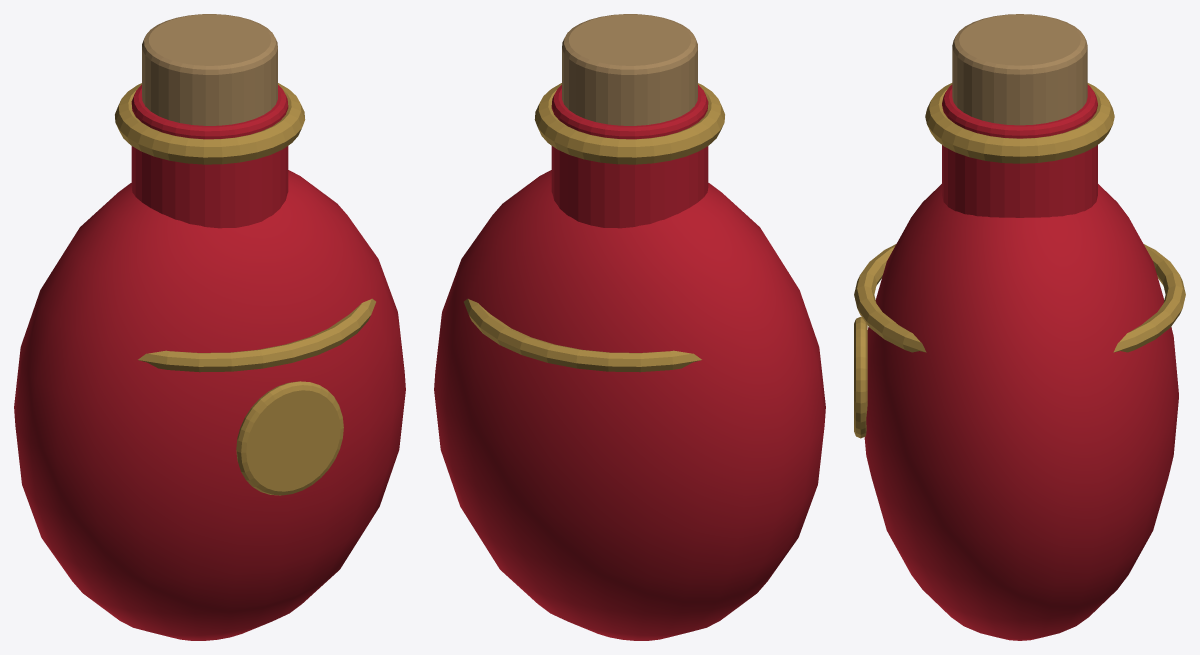
File: health_potion.fbx
3 views of the same model, side by side, from view 1: azimuth 30°, elevation 25°; view 2: azimuth 150°, elevation 25°; view 3: azimuth 270°, elevation 25° (orthographic).
Visible parts, largest first — view 1: SM_health_potion; view 2: SM_health_potion; view 3: SM_health_potion.
Part boxes in pixels (bbox=[...]): SM_health_potion: bbox=[14, 14, 405, 640]; SM_health_potion: bbox=[434, 14, 825, 640]; SM_health_potion: bbox=[854, 14, 1185, 640].
Bounding box in the file's own units: 12.2 × 19.1 × 9.8.
